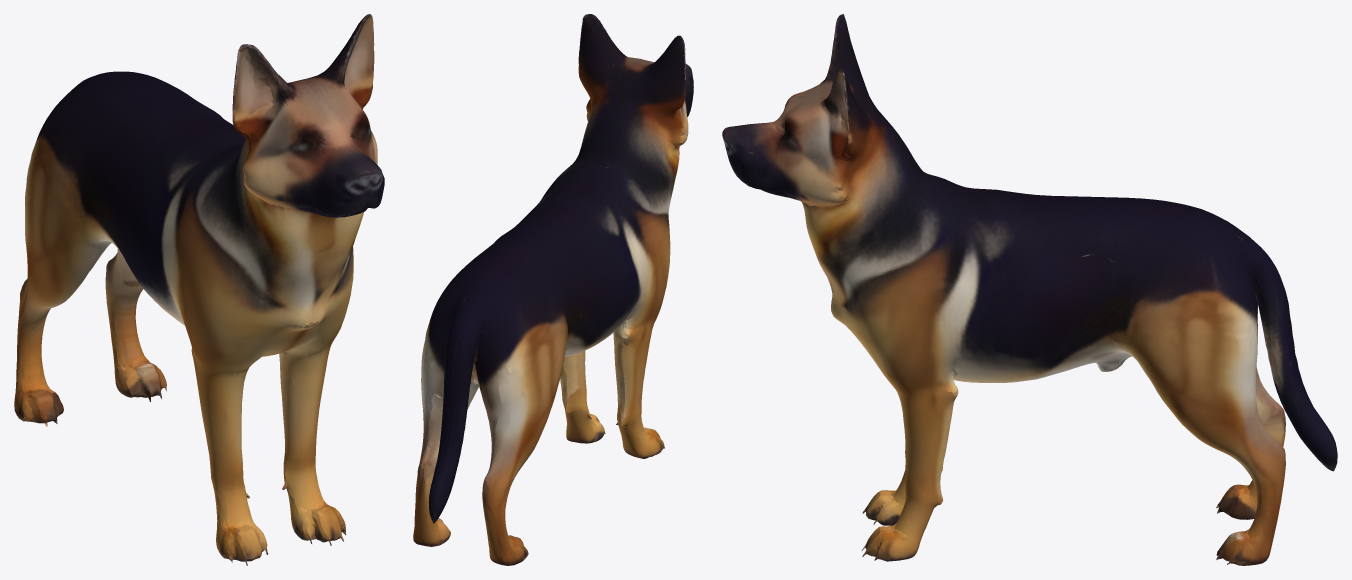
The model's file is german_shepherd.glb.
3 renders of one model, left to right at view 1: azimuth 30°, elevation 25°; view 2: azimuth 150°, elevation 25°; view 3: azimuth 270°, elevation 25°, orthographic. The views are drawn at different scales.
Parts seen in each view (by area): view 1: model; view 2: model; view 3: model.
Boxes of the visible parts, x1,y1,x2,y2 form: model: (14, 14, 384, 565); model: (413, 14, 693, 565); model: (722, 14, 1337, 565).
Size of the model in its own units: 0.5112 by 1.68 by 1.9.
Materials: 1 (1 with a texture image).
